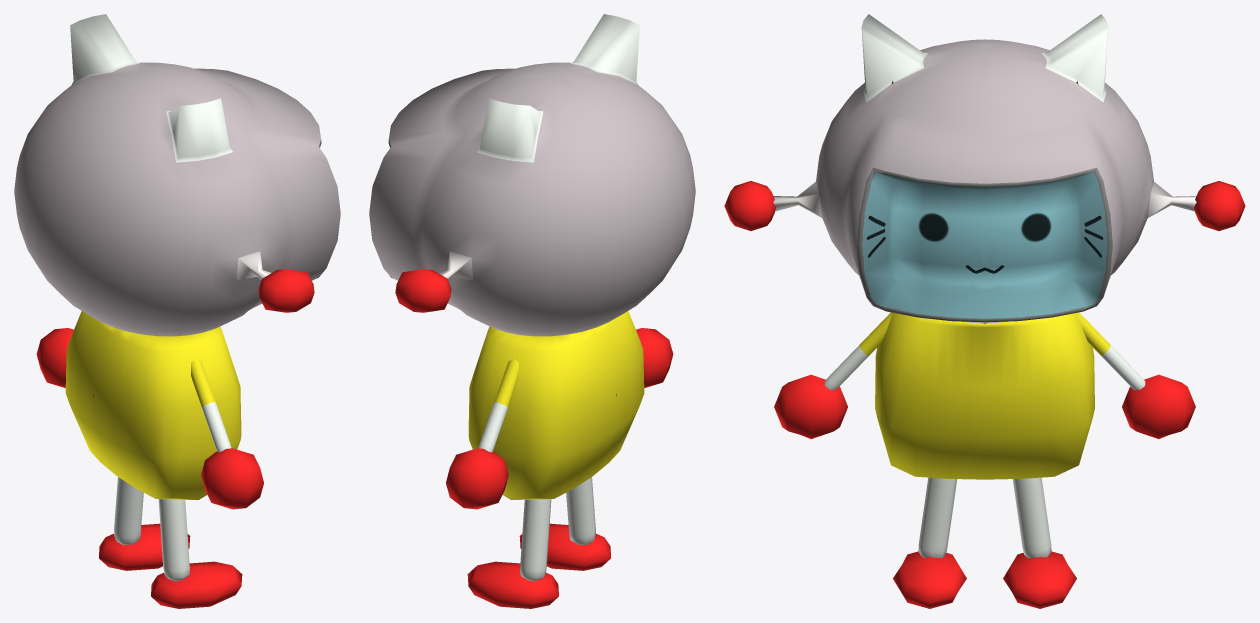
The model's file is sakamoto4.glb.
The picture shows the model from 3 angles, left to right: view 1: azimuth 30°, elevation 25°; view 2: azimuth 150°, elevation 25°; view 3: azimuth 270°, elevation 25°; orthographic projection. The views are drawn at different scales.
Parts seen in each view (by area): view 1: EsferaPequena.001; view 2: EsferaPequena.001; view 3: EsferaPequena.001.
Part boxes in pixels (x1,y1,x2,y2): EsferaPequena.001: (14, 14, 340, 608); EsferaPequena.001: (369, 14, 695, 608); EsferaPequena.001: (724, 14, 1245, 608).
Size of the model in its own units: 1.41 by 2.76 by 2.33.
Materials: 1 (1 with a texture image).
